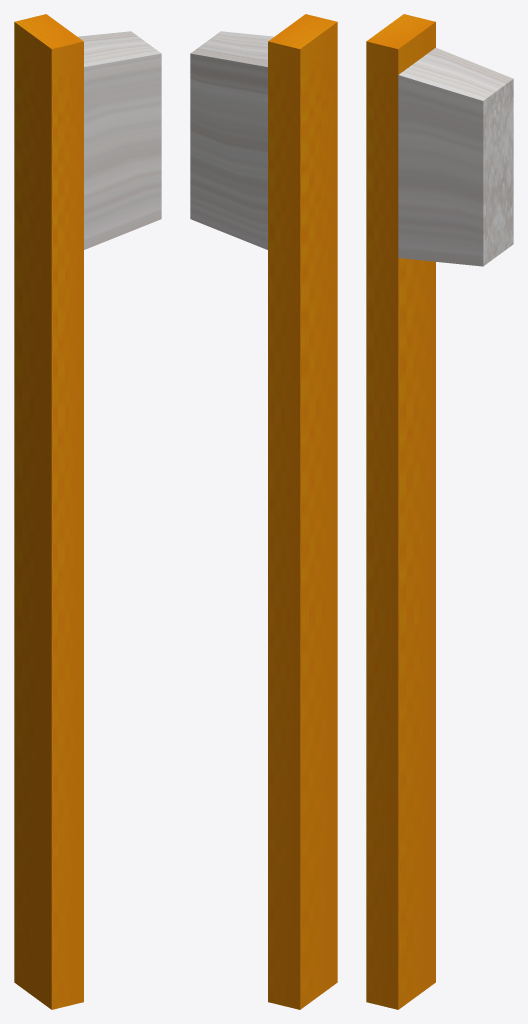
Rendered from toothbrush2.FBX.
The picture shows the model from 3 angles, left to right: view 1: azimuth 30°, elevation 25°; view 2: azimuth 150°, elevation 25°; view 3: azimuth 330°, elevation 25°; orthographic projection.
Visible parts, largest first — view 1: Box001, Object001; view 2: Box001, Object001; view 3: Box001, Object001.
Boxes of the visible parts, x1,y1,x2,y2 form: Box001: (14, 14, 83, 1009); Object001: (78, 31, 161, 249); Box001: (268, 14, 337, 1009); Object001: (190, 31, 273, 249); Box001: (366, 14, 435, 1009); Object001: (398, 48, 513, 266).
Bounding box in the file's own units: 9.55 × 77.38 × 5.47.
2 materials, 2 textured.
